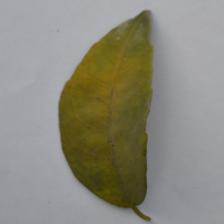greening: (50, 25, 168, 158)
